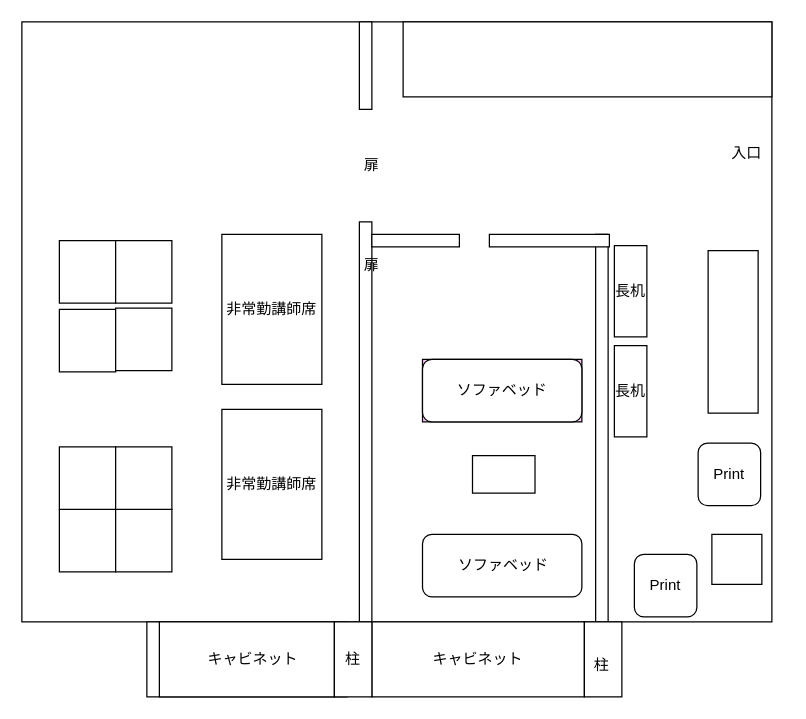
Image size: 806x719. Some labels were removed from this diagram. Each missing label, with the centre of its shape:
NＷ: the point at 736,558
テーブル: the point at 503,473
プリント用紙置: the point at 732,331
本棚: the point at 587,59
